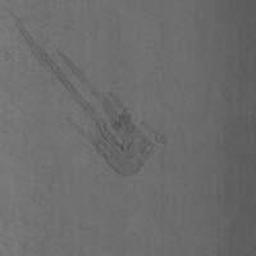Water spot: (8, 10, 168, 177)
